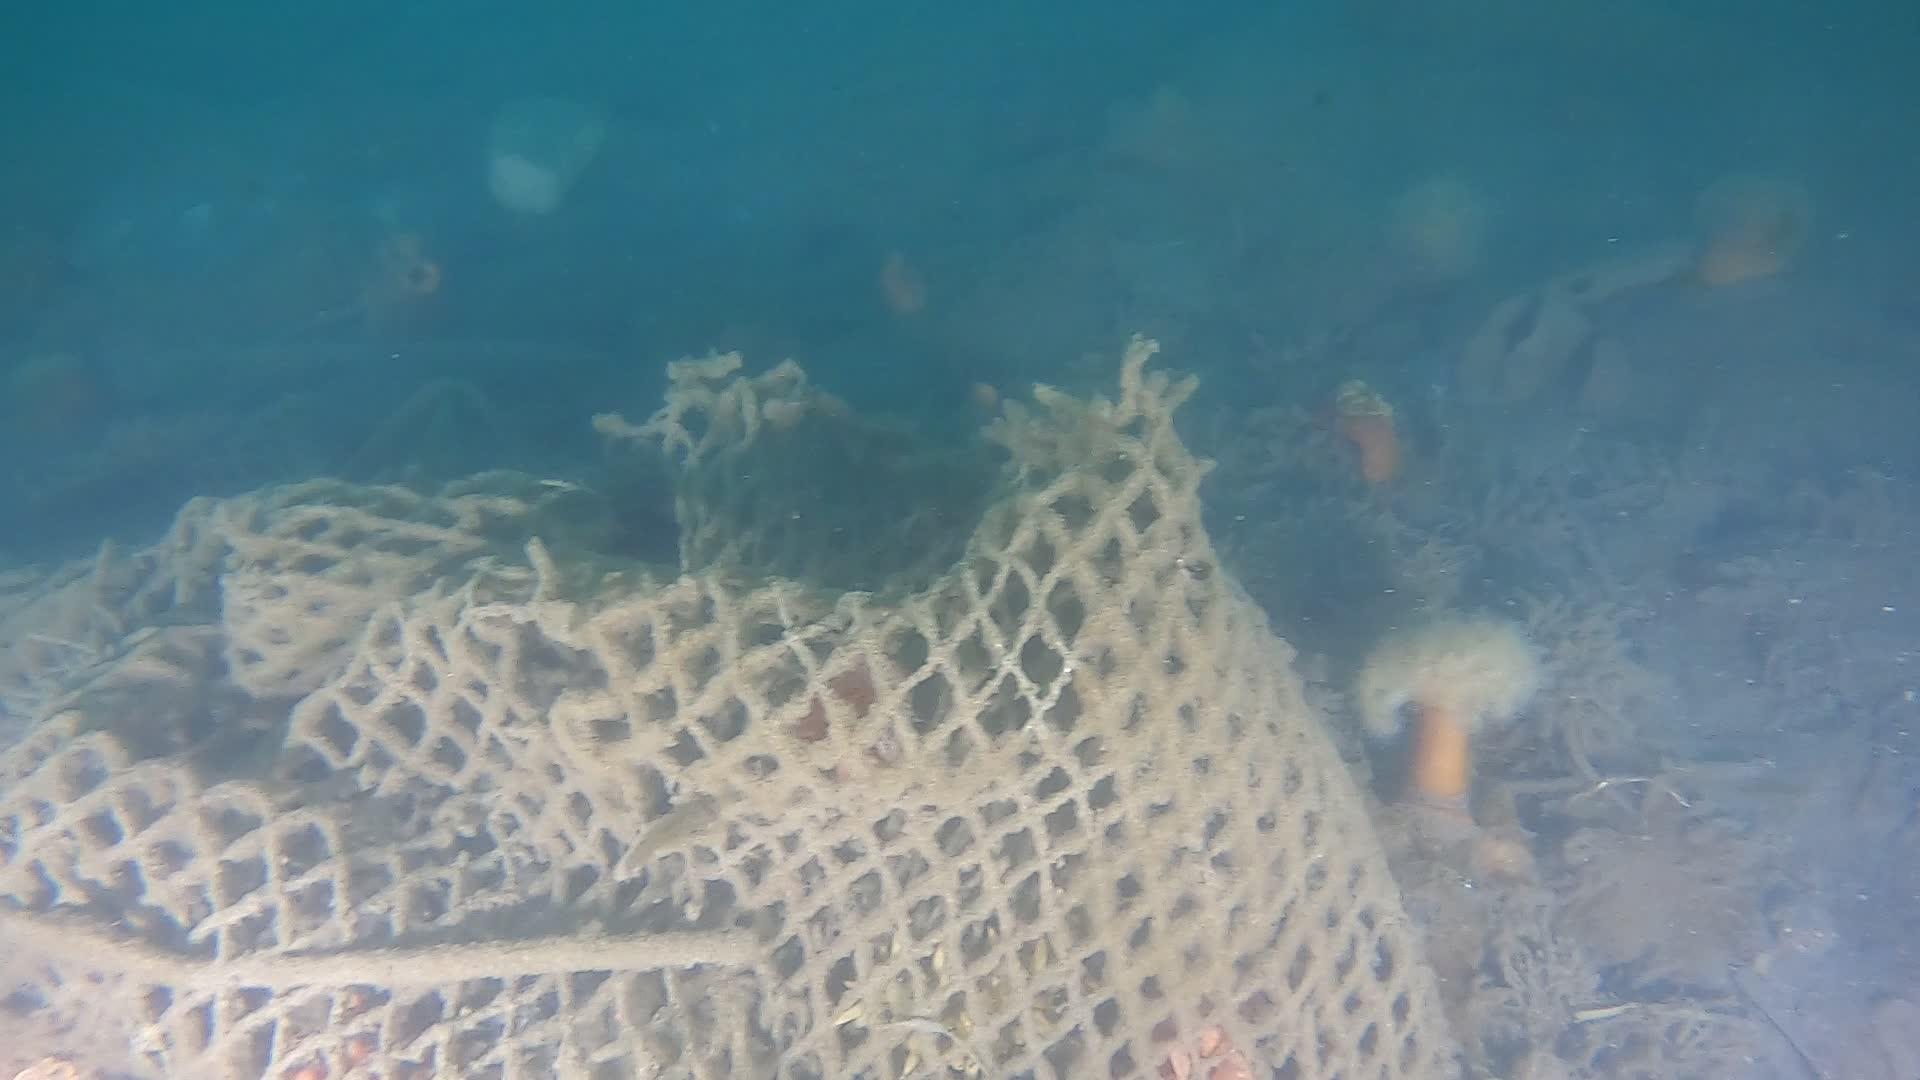fish net: (0, 342, 1462, 1080)
